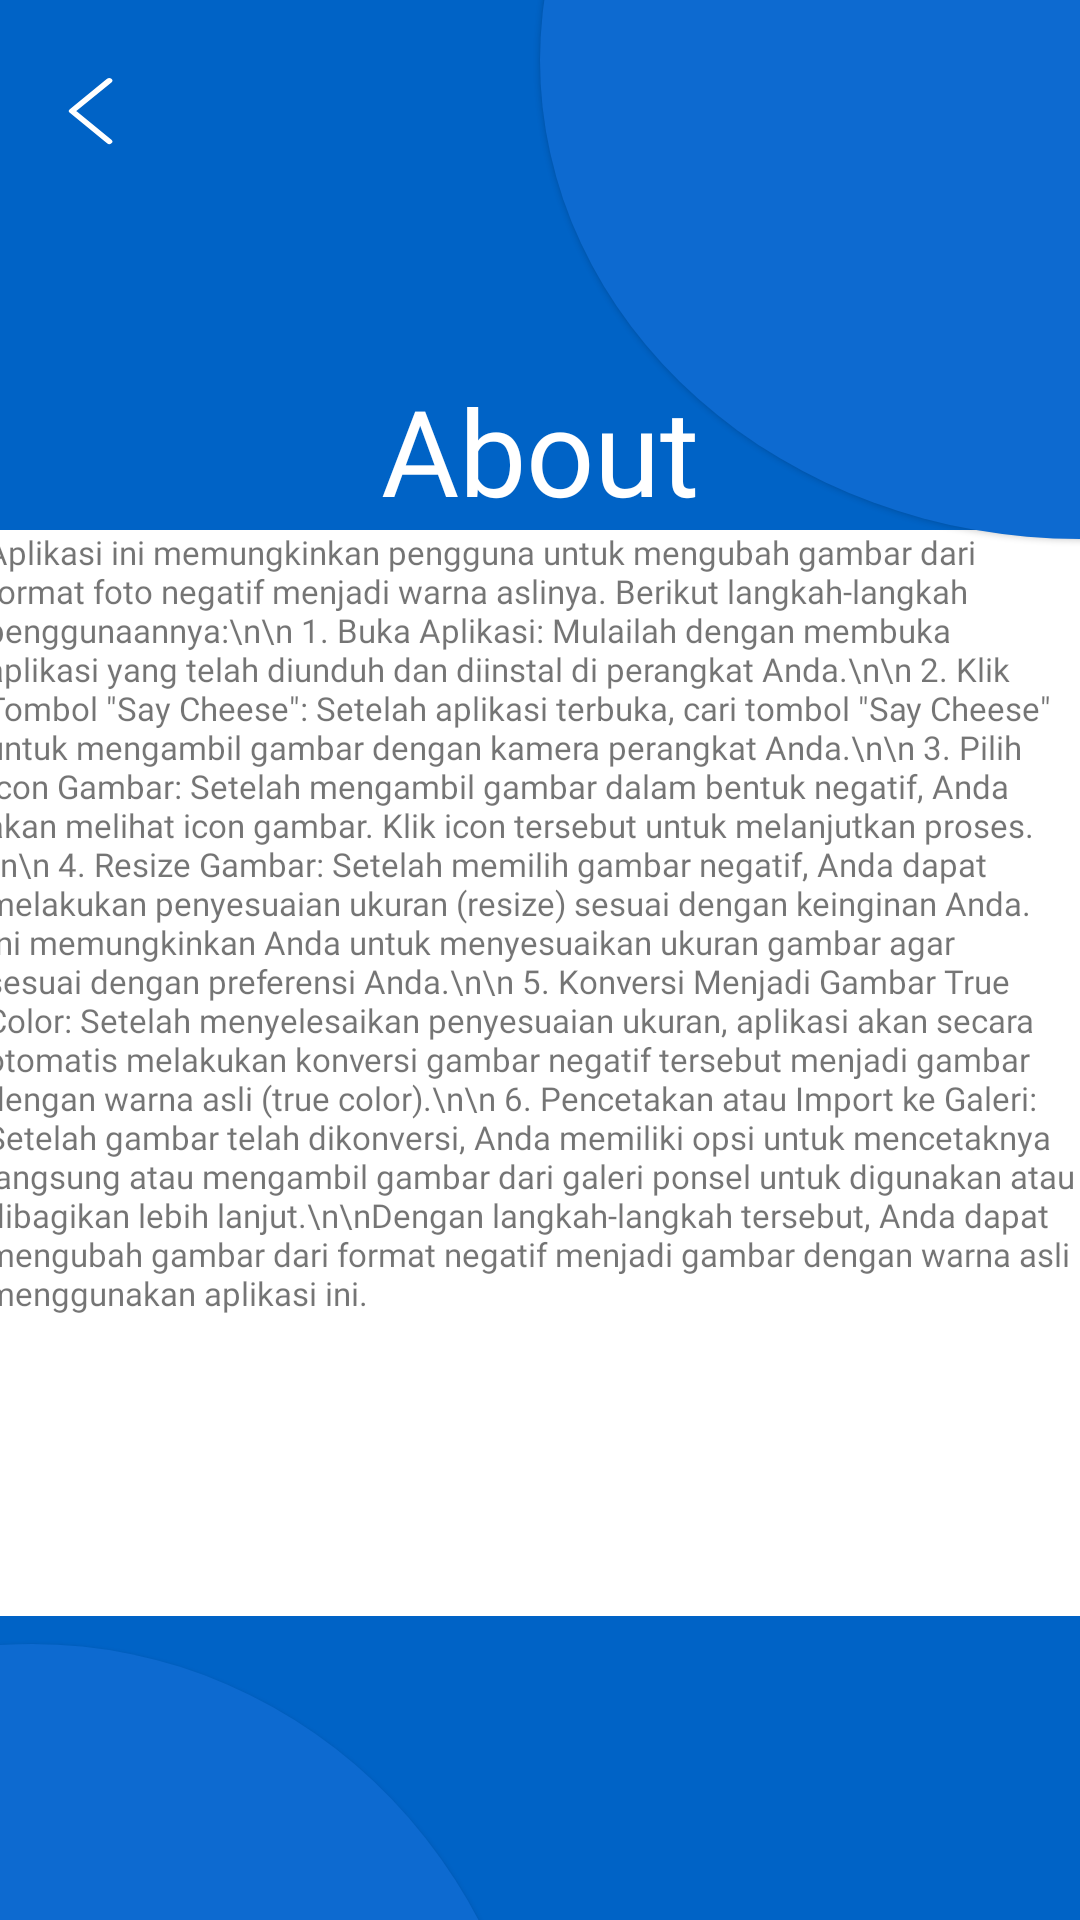

Icon click points for this 1080w x 1920h phone screenshot, format (x,y):
chevron left: (90,111)
